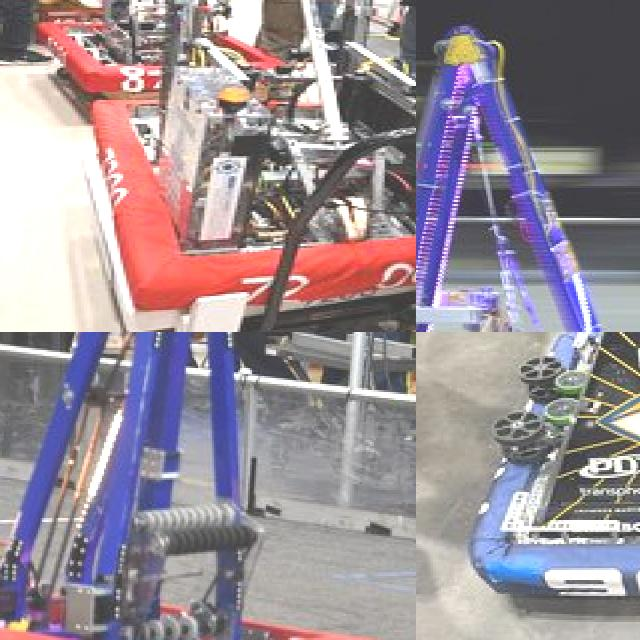FRC-Robots: (0, 332, 395, 640), (78, 85, 416, 311), (416, 20, 640, 332), (416, 332, 640, 622), (10, 0, 301, 85)
